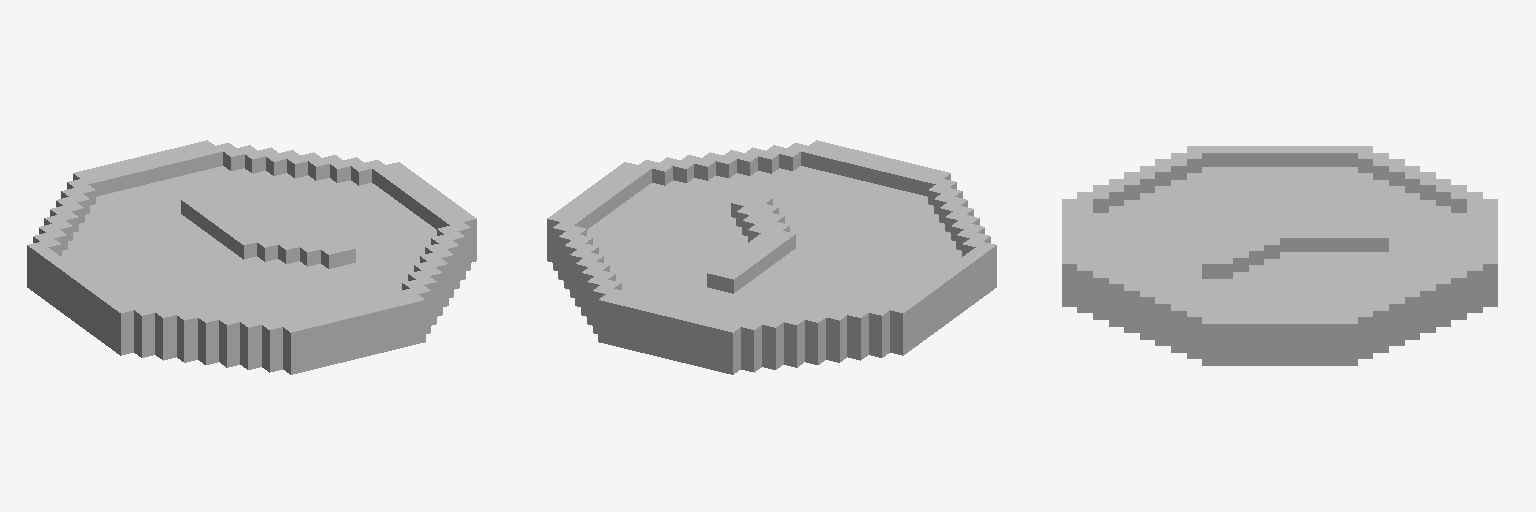
The model's file is clock.obj.
3 renders of one model, left to right at view 1: azimuth 30°, elevation 25°; view 2: azimuth 150°, elevation 25°; view 3: azimuth 270°, elevation 25°, orthographic.
Parts seen in each view (by area): view 1: object 1; view 2: object 1; view 3: object 1.
Boxes of the visible parts, x1,y1,x2,y2 form: object 1: [27, 140, 476, 374]; object 1: [547, 140, 996, 374]; object 1: [1062, 146, 1497, 365].
Size of the model in its own units: 2.7 by 0.3 by 2.8.